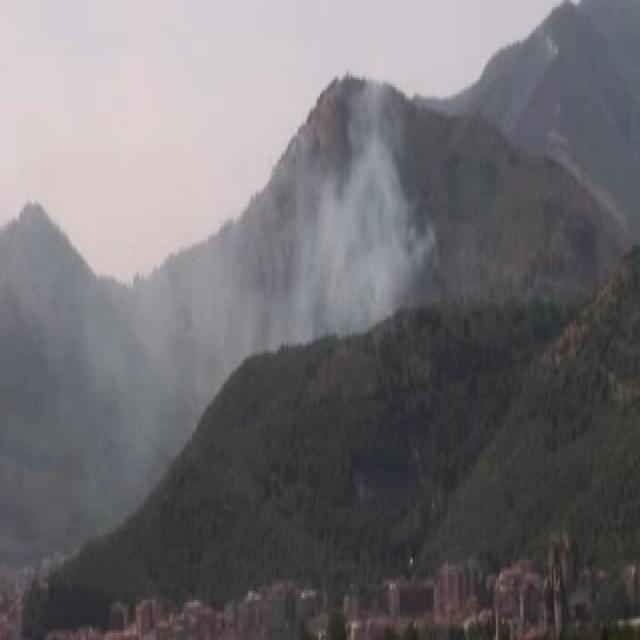smoke: (240, 107, 438, 334), (34, 292, 202, 445)
